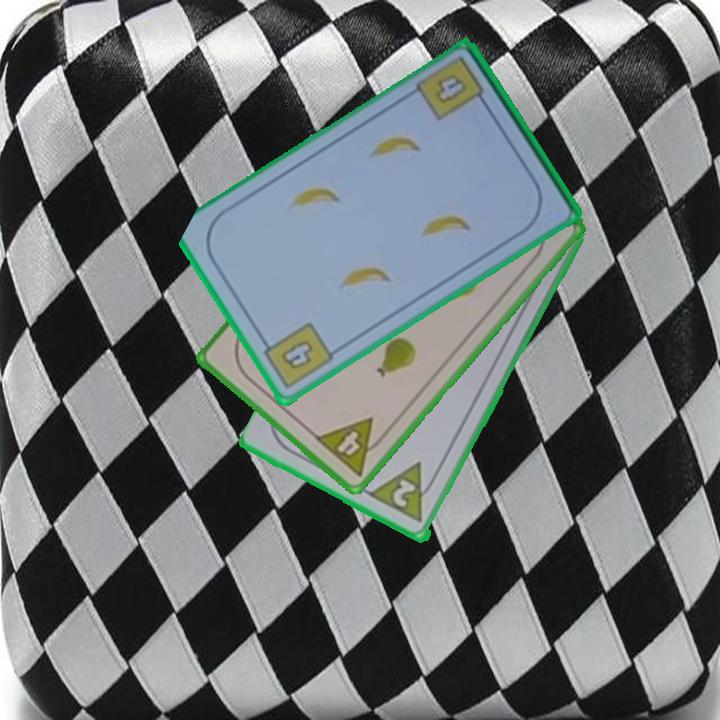2p: (367, 459, 442, 526)
4b: (257, 318, 337, 393), (431, 71, 471, 107)
4p: (311, 414, 392, 480)
